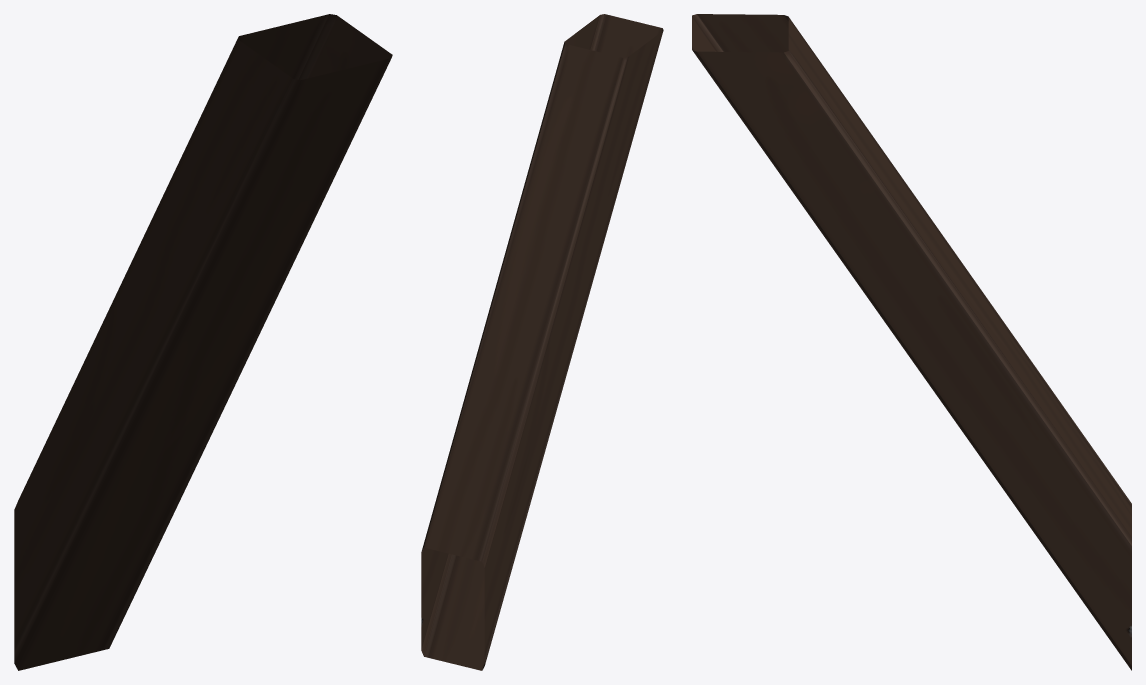
The model's file is SupportBeam_4.fbx.
3 renders of one model, left to right at view 1: azimuth 30°, elevation 25°; view 2: azimuth 150°, elevation 25°; view 3: azimuth 270°, elevation 25°, orthographic. The views are drawn at different scales.
Parts seen in each view (by area): view 1: Woodbeam_4; view 2: Woodbeam_4; view 3: Woodbeam_4.
Boxes of the visible parts, x1,y1,x2,y2 form: Woodbeam_4: [14, 14, 392, 670]; Woodbeam_4: [421, 14, 663, 670]; Woodbeam_4: [692, 14, 1131, 670].
Size of the model in its own units: 7.91 by 60.87 by 39.07.
